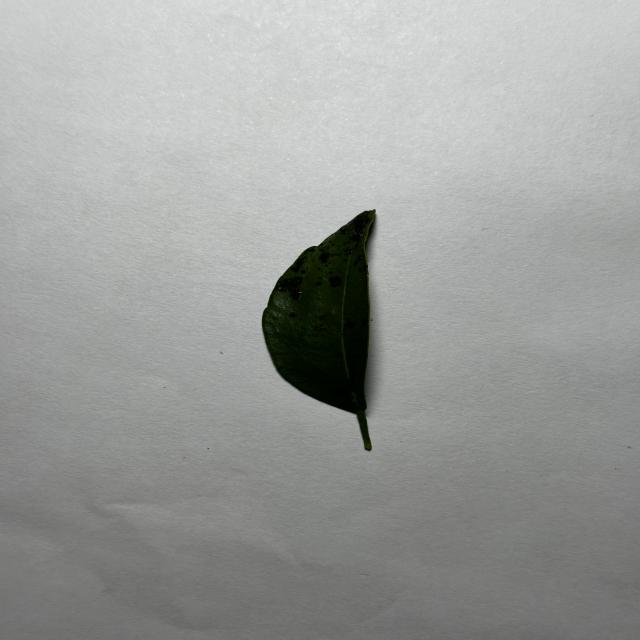sooty_mold: (262, 211, 375, 450)
